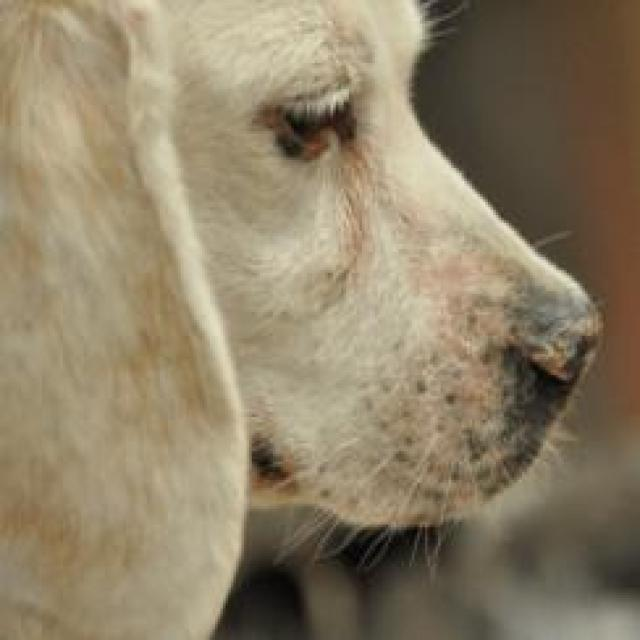allergic dermatitis: (416, 249, 506, 426), (264, 139, 347, 165), (330, 99, 364, 153), (255, 92, 283, 150)
